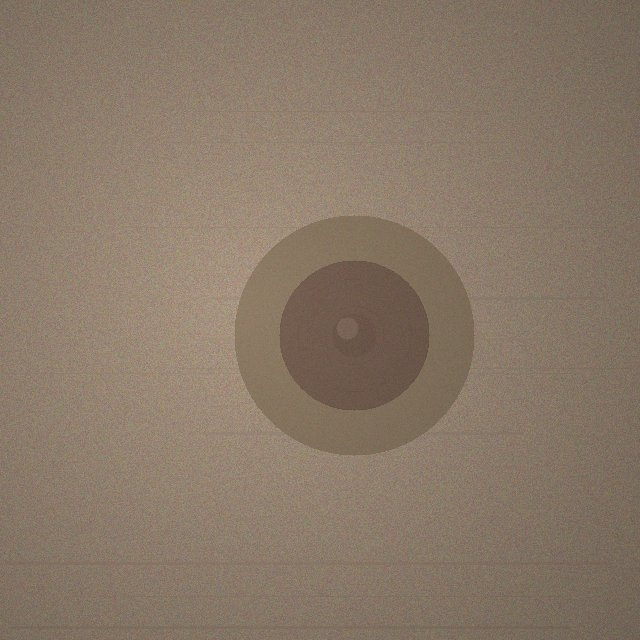good: (234, 215, 474, 455)
